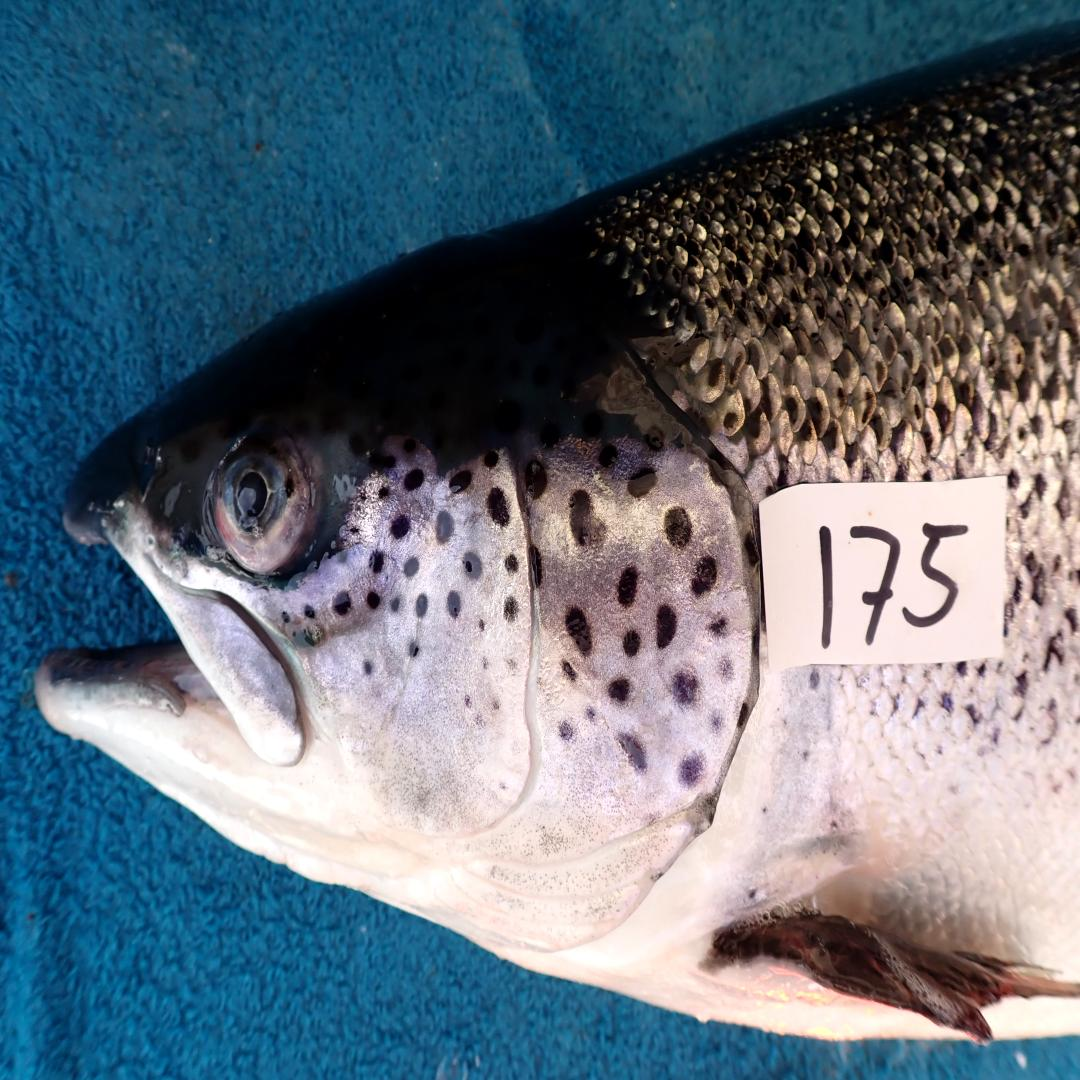roi: (300, 431, 763, 965)
